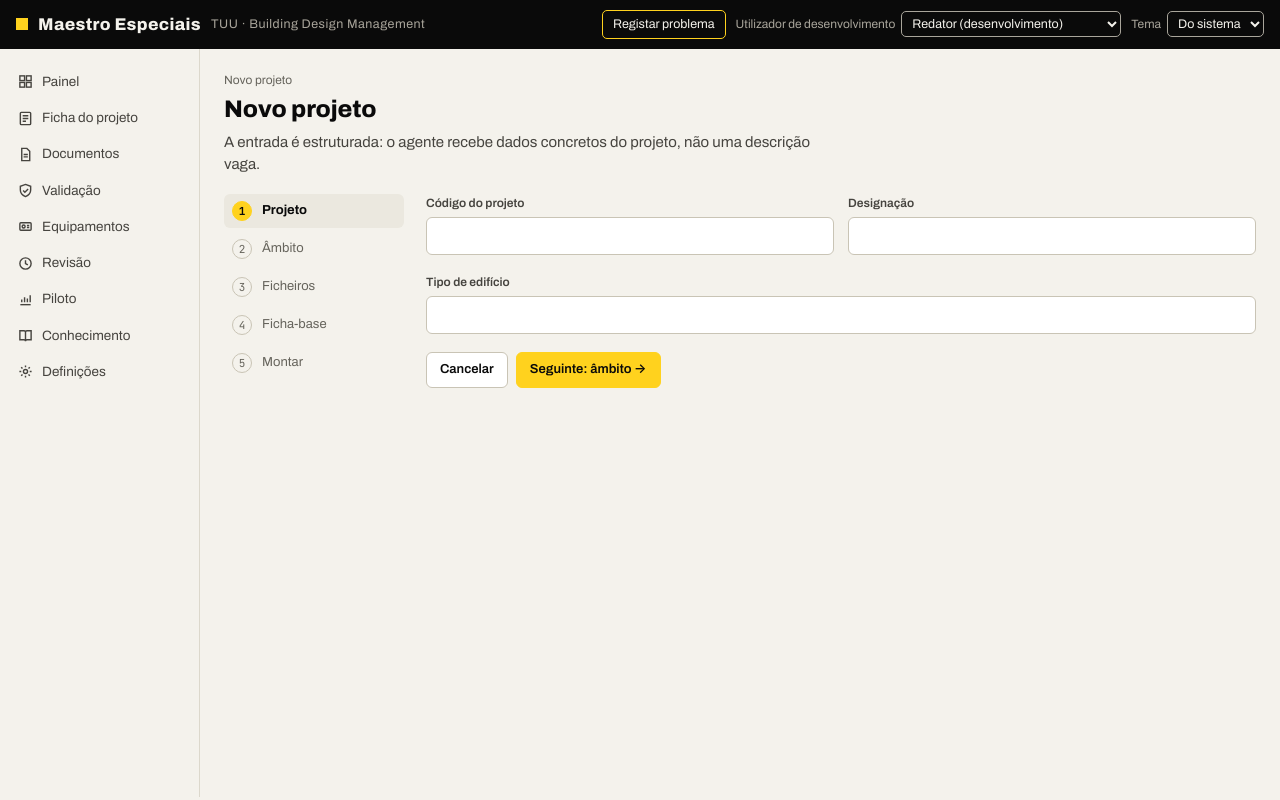
Scenario: new project wizard › creates the project from the first two steps and moves on to the files
The width and height of the screenshot is (1280, 800).
Expected: the list named "Passos" reads "Projeto Âmbito Ficheiros Ficha-base Montar", [224,194,404,380]
Type "r9" into the field labelled "Código do projeto". click: (630, 236)
box: [426,217,834,255]
Type "Moradia" into the field labelled "Designação". click: (1052, 236)
box: [848,217,1256,255]
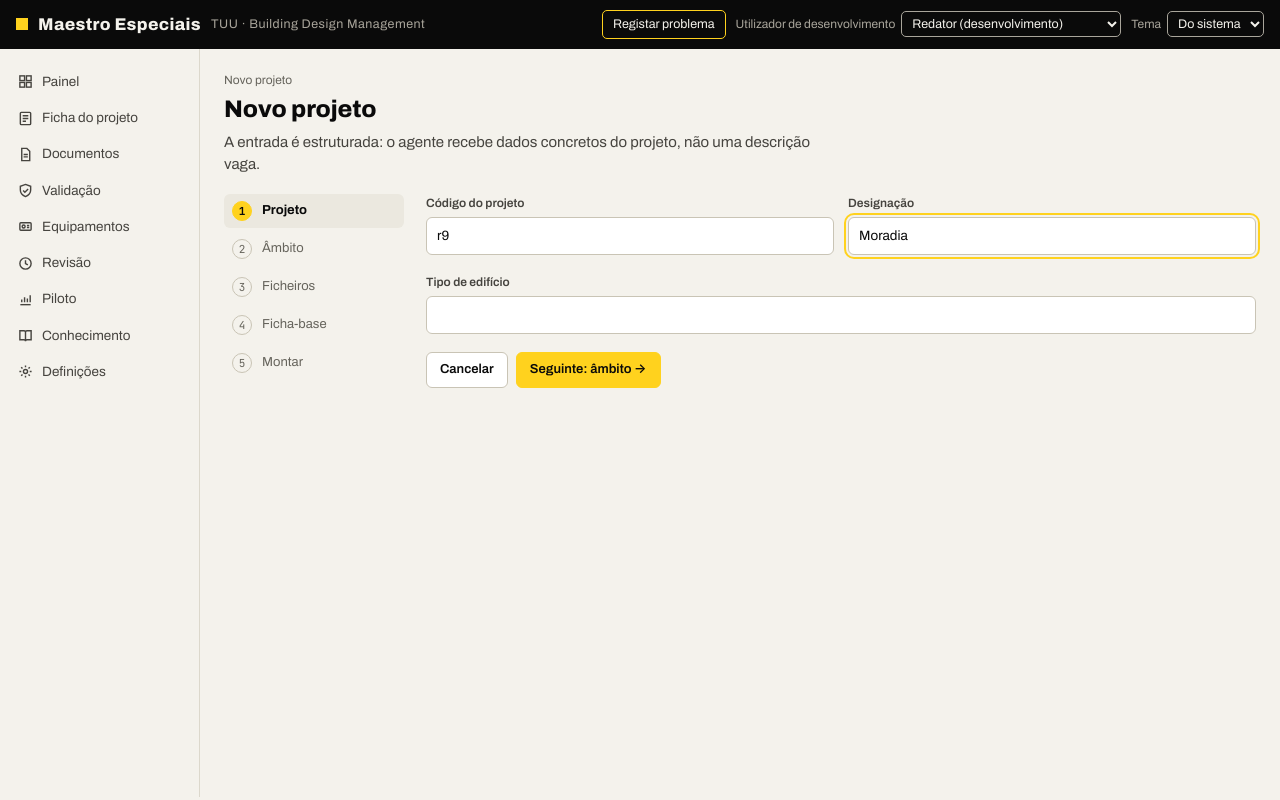
Type "Moradia unifamiliar" into the field labelled "Tipo de edifício". click: (841, 315)
box: [426,296,1256,334]
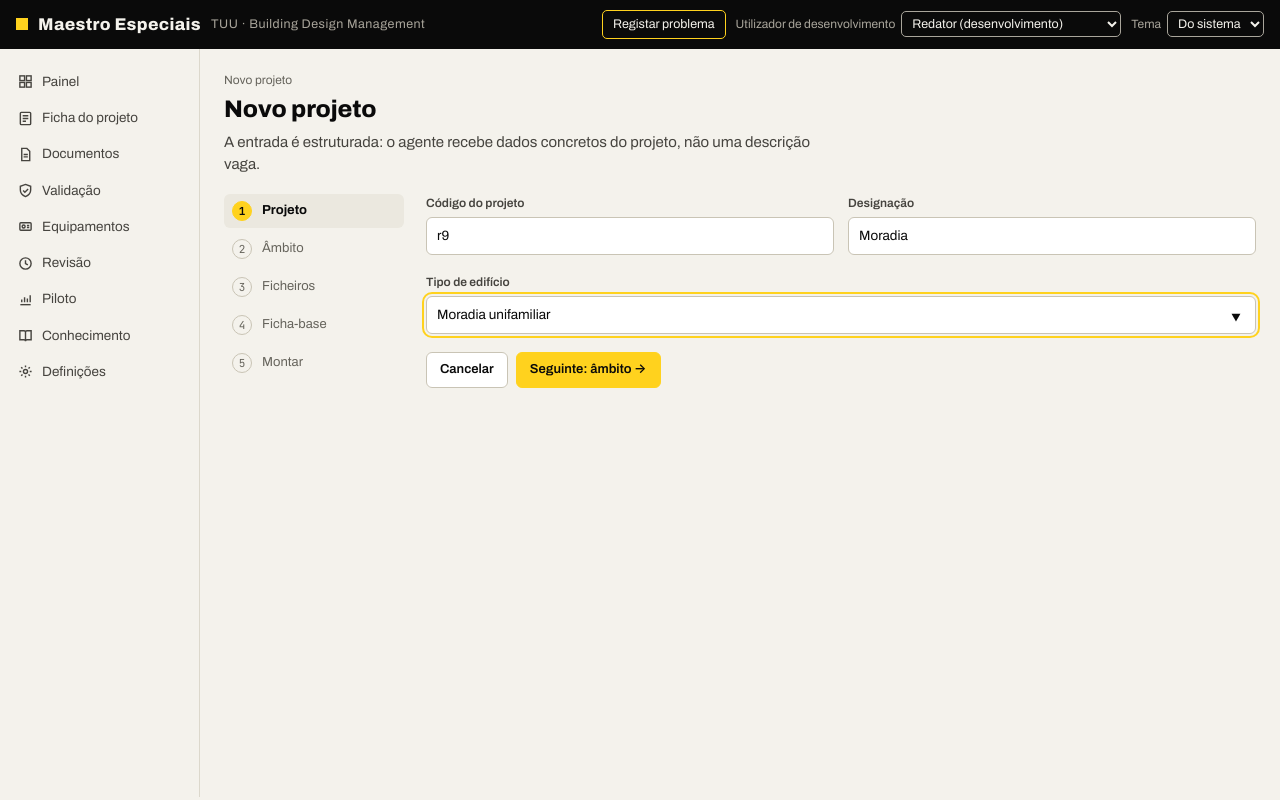
Click the button "Seguinte: âmbito →". click: (588, 370)
box: [516,352,660,388]
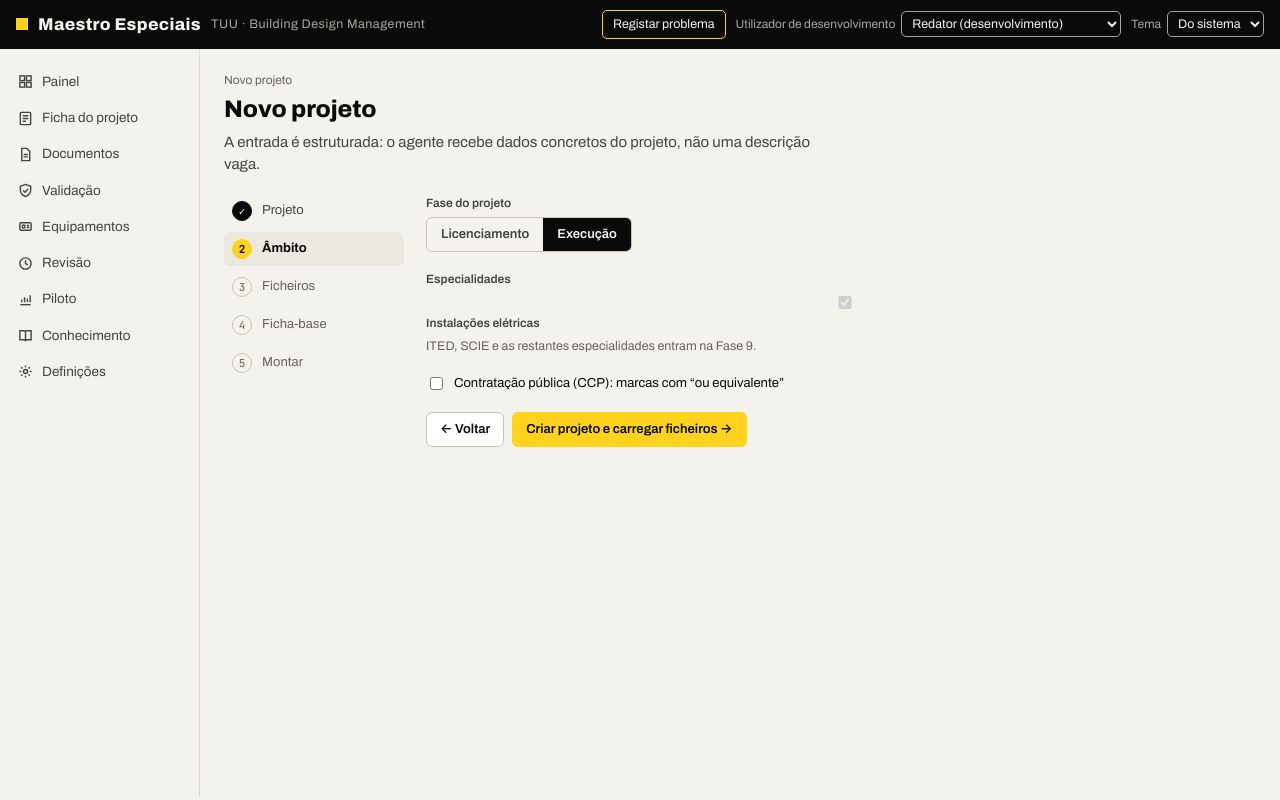
Click the button "Licenciamento". click: (485, 235)
box: [427,218,543,251]
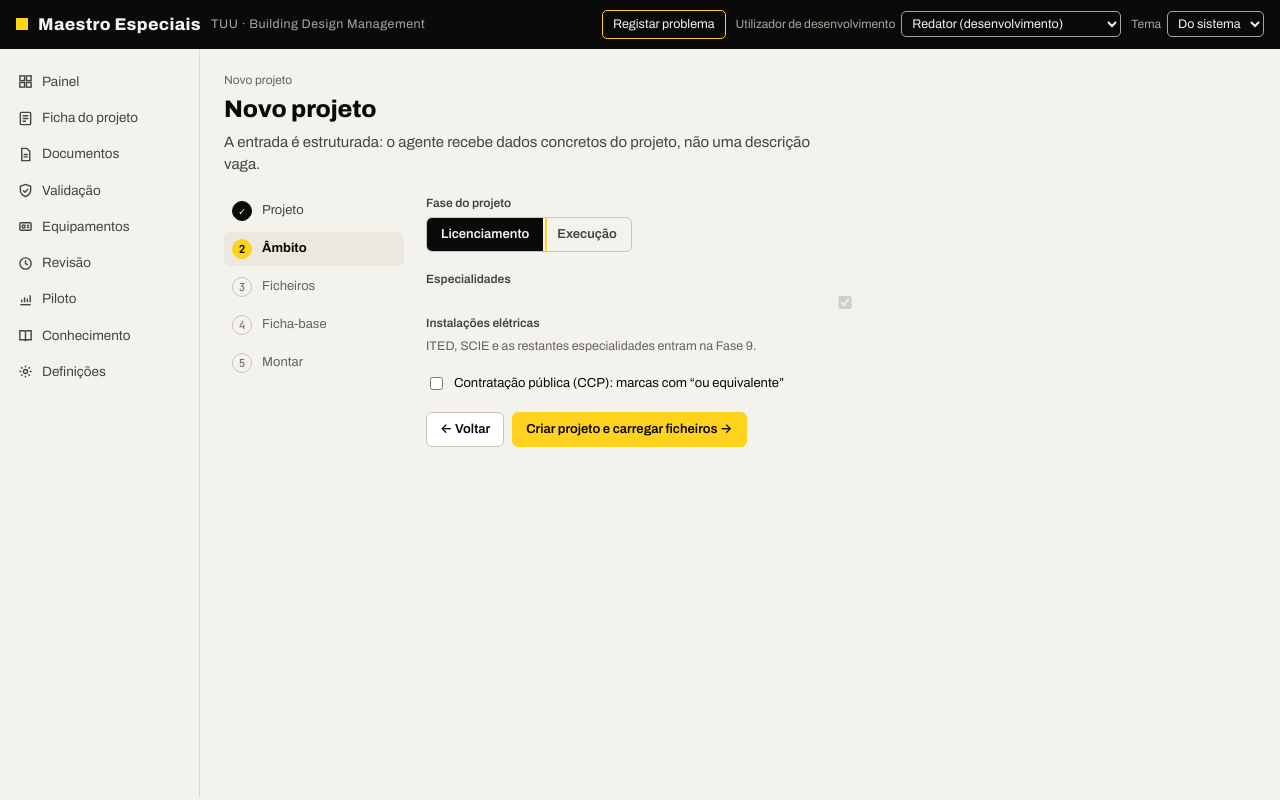
Click the checkbox labelled "Contratação pública (CCP): marcas com “ou equivalente”". click: (436, 384)
box: [430,377,443,390]
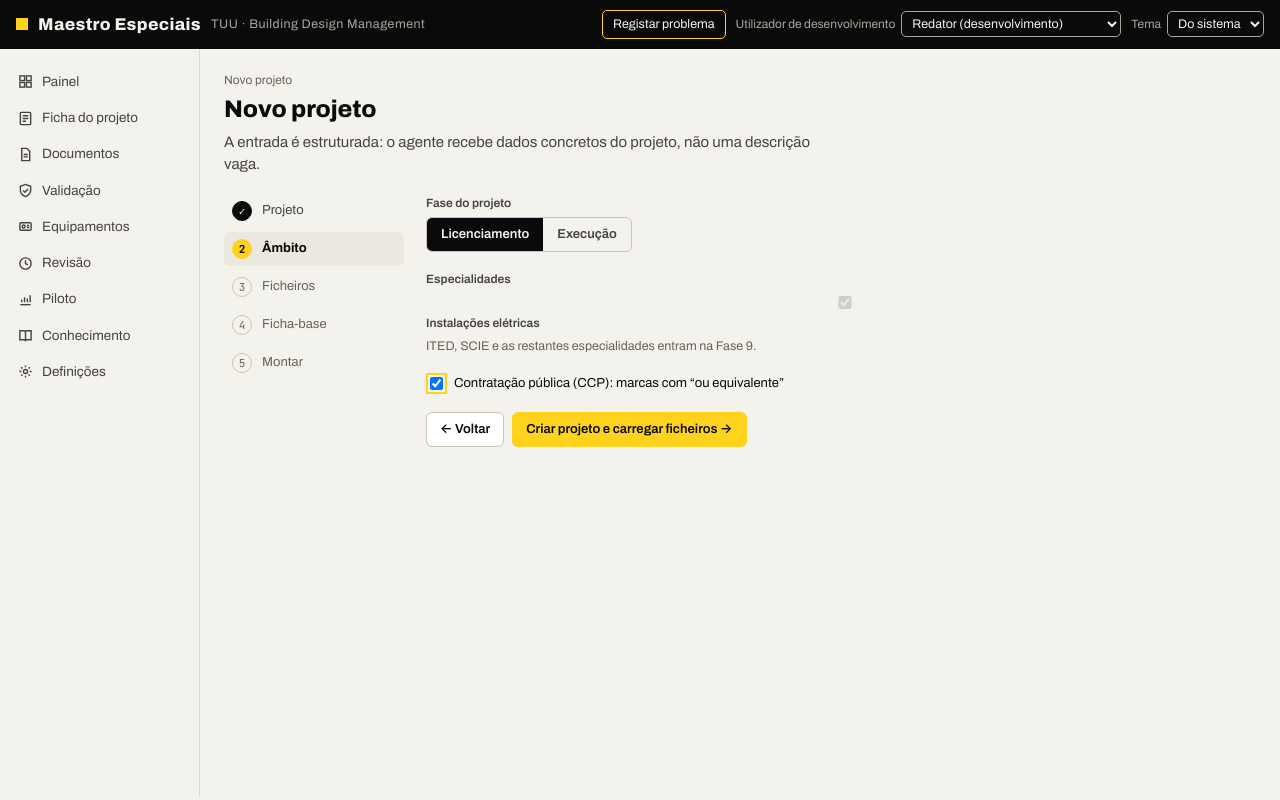
Click the button "Criar projeto e carregar ficheiros →". click: (629, 429)
box: [512,412,747,447]
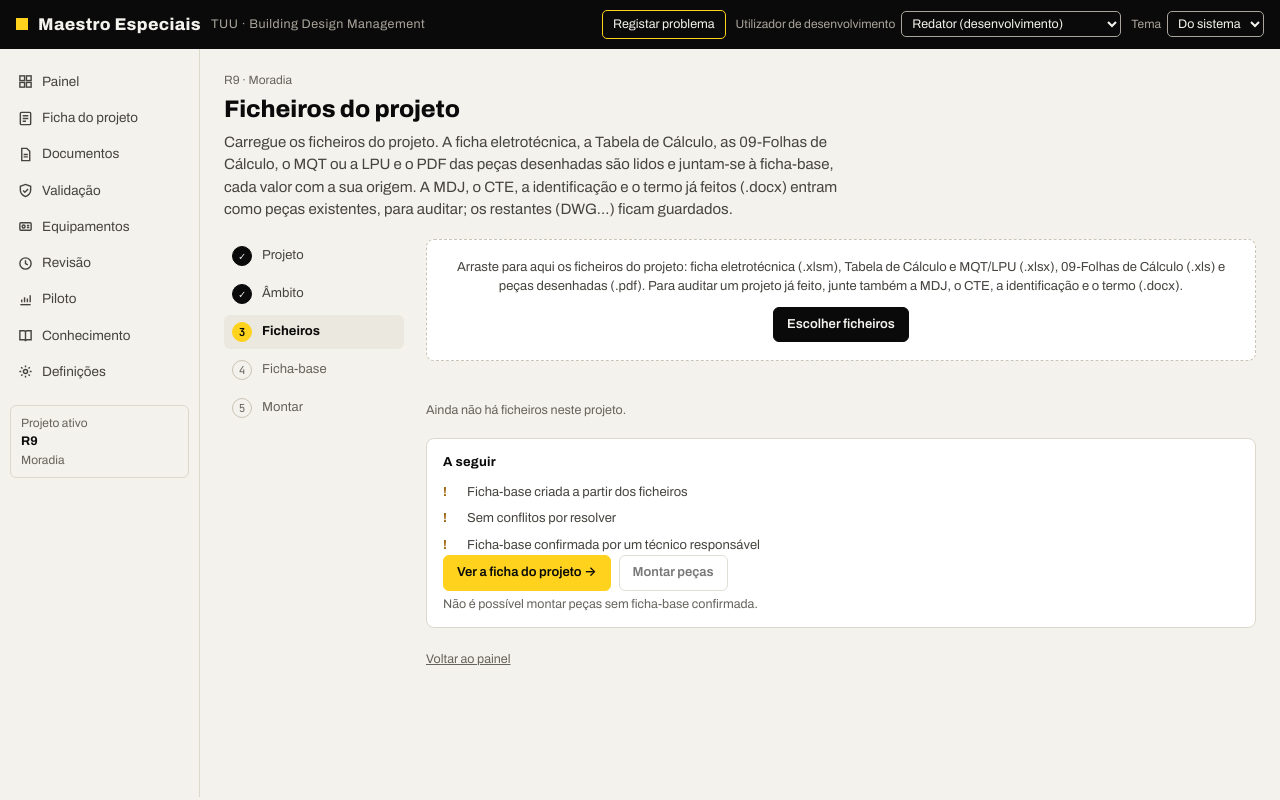
Expected: the text "Ainda não há ficheiros neste projeto." is shown, [426,403,626,417]
